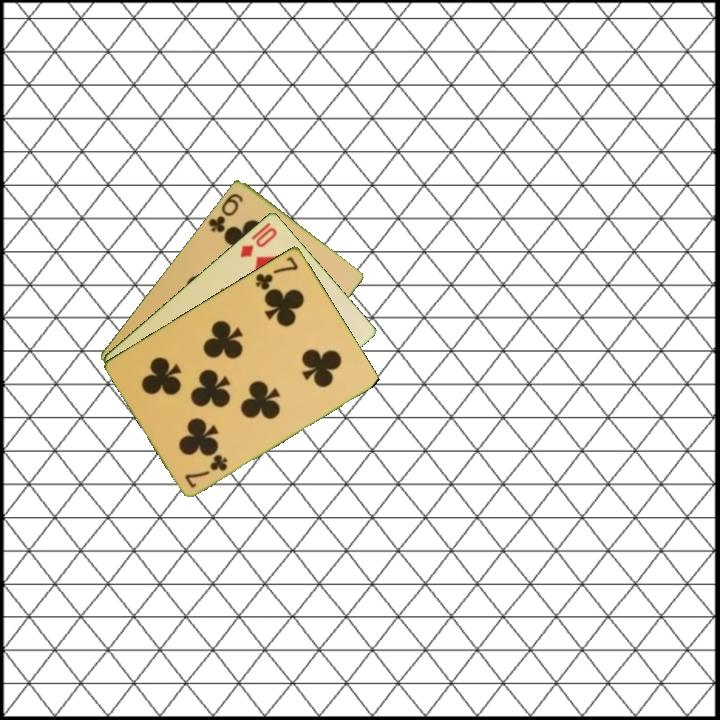10d: (236, 218, 280, 260)
6c: (205, 189, 246, 235)
7c: (181, 450, 231, 491), (252, 252, 301, 293)
